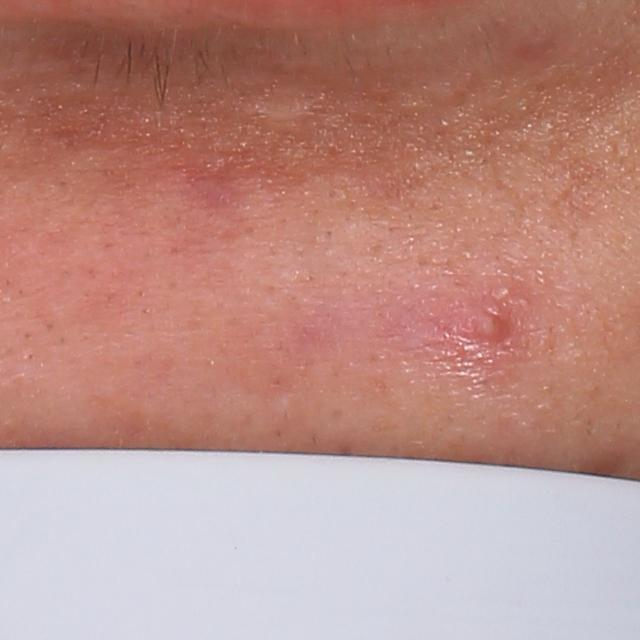hypertrophic_scar: (225, 91, 325, 136)
